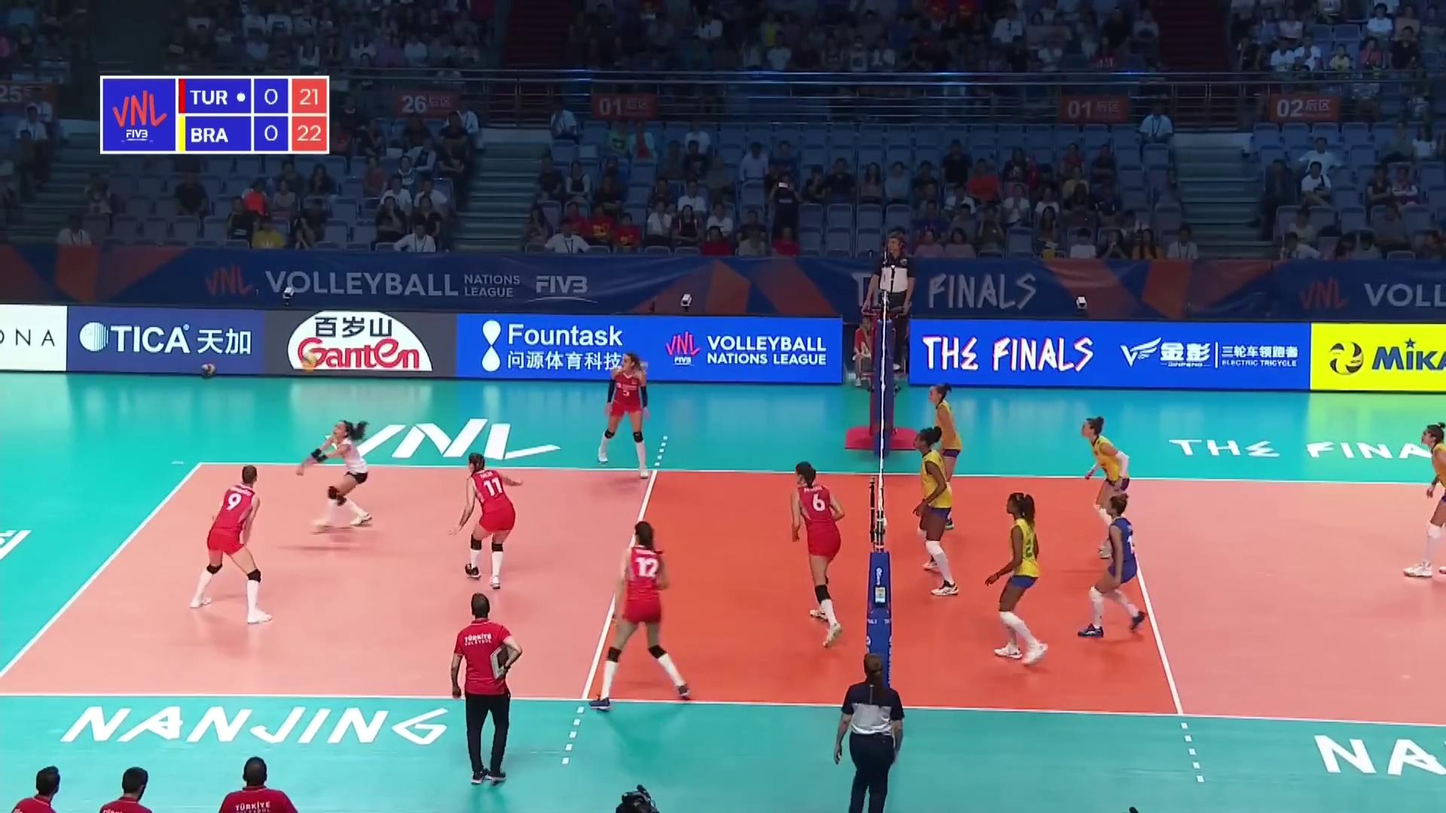player: (588, 520, 693, 706), (192, 466, 271, 624), (987, 492, 1050, 668), (792, 462, 848, 647), (1080, 494, 1148, 640), (451, 453, 522, 588), (294, 420, 372, 532), (911, 425, 960, 597), (1081, 417, 1136, 558), (598, 353, 651, 480), (1406, 422, 1446, 579), (923, 383, 962, 523)
refree: (835, 653, 906, 813), (865, 234, 917, 373)
